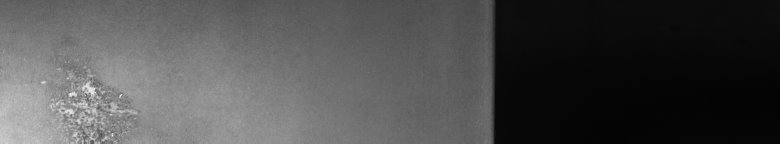hc: (31, 60, 141, 136)
